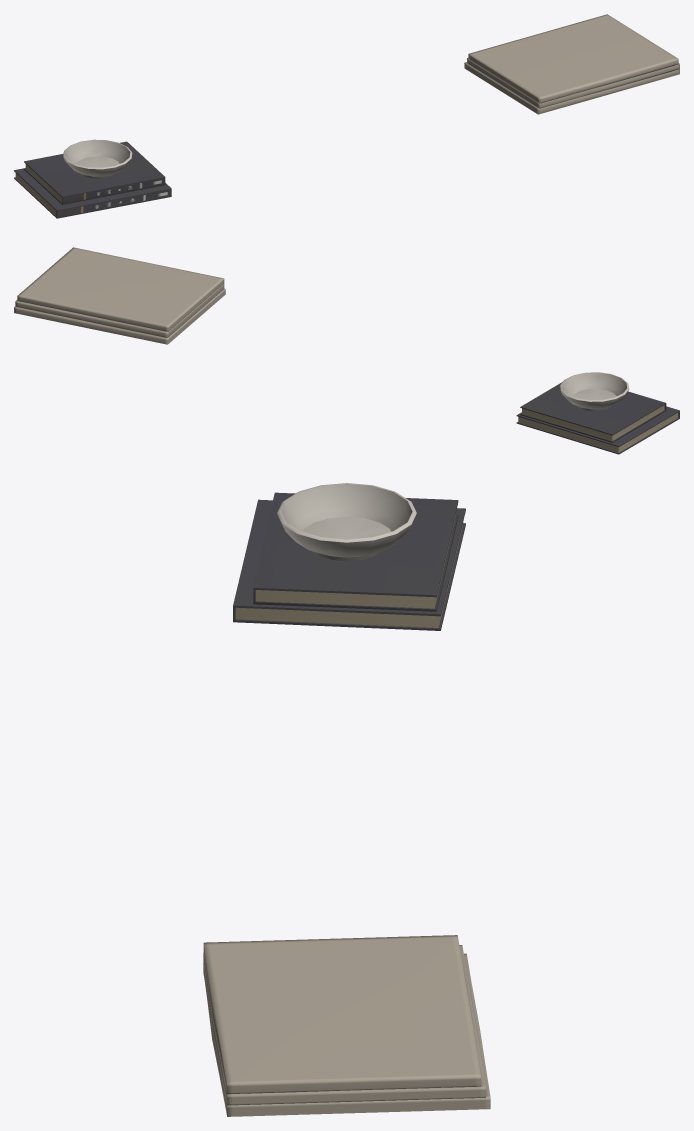
File: decor_a_soft.gltf
3 renders of one model, top to bottom at view 1: azimuth 30°, elevation 25°; view 2: azimuth 150°, elevation 25°; view 3: azimuth 270°, elevation 25°, orthographic. The views are drawn at different scales.
Parts seen in each view (by area): view 1: DecorASoft_oat_NoCollide, DecorASoft_spines_NoCollide, DecorASoft_stoneware_NoCollide; view 2: DecorASoft_oat_NoCollide, DecorASoft_spines_NoCollide, DecorASoft_stoneware_NoCollide; view 3: DecorASoft_oat_NoCollide, DecorASoft_spines_NoCollide, DecorASoft_stoneware_NoCollide.
Part boxes in pixels (x1,y1,x2,y2): DecorASoft_oat_NoCollide: [464, 14, 679, 114]; DecorASoft_spines_NoCollide: [14, 141, 171, 218]; DecorASoft_stoneware_NoCollide: [63, 139, 132, 178]; DecorASoft_oat_NoCollide: [14, 247, 225, 344]; DecorASoft_spines_NoCollide: [516, 382, 679, 454]; DecorASoft_stoneware_NoCollide: [560, 372, 629, 410]; DecorASoft_oat_NoCollide: [203, 935, 490, 1116]; DecorASoft_spines_NoCollide: [233, 492, 465, 630]; DecorASoft_stoneware_NoCollide: [277, 483, 416, 560].
Bounding box in the file's own units: 1.83 × 0.0943 × 0.3699.
3 materials, 1 textured.
